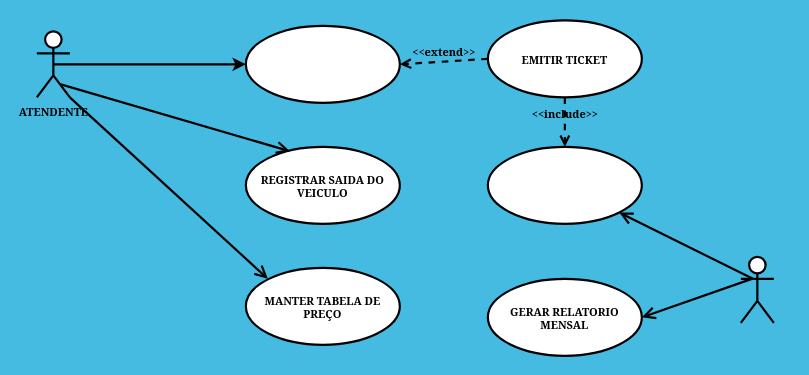
The diagram is 809 pixels wide and 375 high, and some of its shapes have lost their labels. The shapes that lost their labels are listed below. From the top down, each one's box as (x1, y1, x2, y2) in pixels, then its label:
(244, 24, 400, 103): REGISTRAR ENTRADA DO VEICULO
(486, 145, 642, 224): GERAR RELATORIO DIARIO
(739, 255, 774, 323): DIRETORIA
